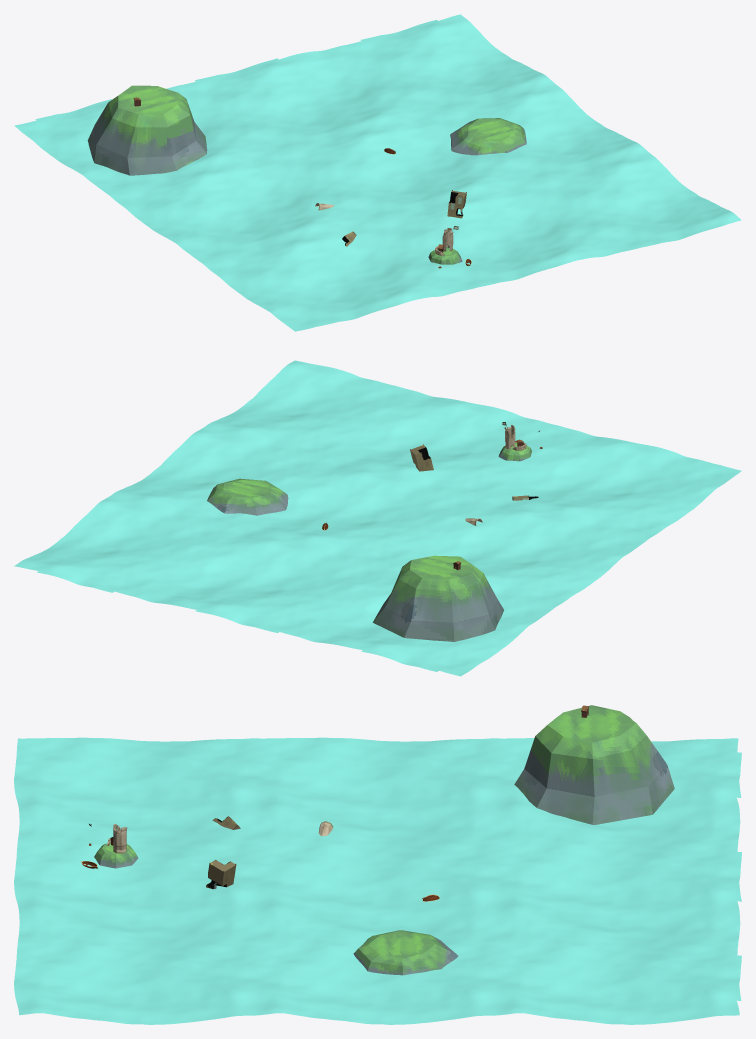
File: modelo_wadalusia.glb
3 views of the same model, one above another, from view 1: azimuth 30°, elevation 25°; view 2: azimuth 150°, elevation 25°; view 3: azimuth 270°, elevation 25° (orthographic). The views are drawn at different scales.
Visible parts, largest first — view 1: Barca; view 2: Barca; view 3: Barca.
Part boxes in pixels (<box>): Barca: <box>14,14,741,331</box>; Barca: <box>14,360,741,676</box>; Barca: <box>14,705,741,1024</box>.
Size of the model in its own units: 1104 by 170 by 1213.
11 materials, 9 textured.
